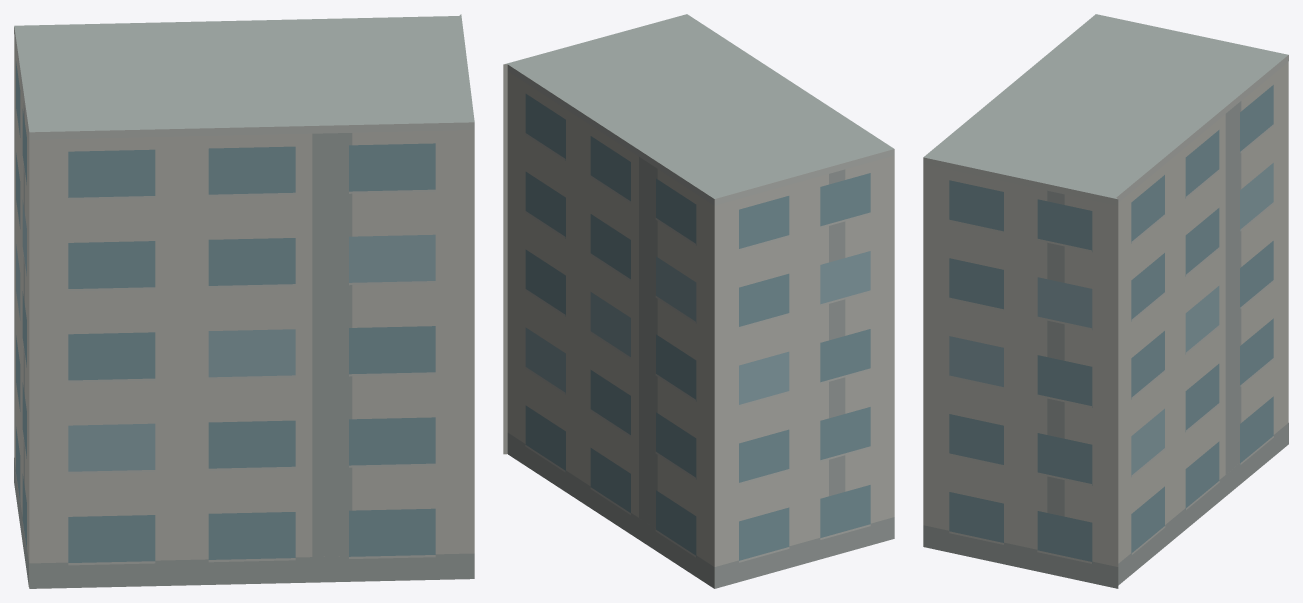
File: survey-upis-32726271.glb
3 views of the same model, side by side, from view 1: azimuth 30°, elevation 25°; view 2: azimuth 150°, elevation 25°; view 3: azimuth 270°, elevation 25° (orthographic). The views are drawn at different scales.
Parts seen in each view (by area): view 1: survey-upis-32726271.tmp; view 2: survey-upis-32726271.tmp; view 3: survey-upis-32726271.tmp.
Boxes of the visible parts, left/top/right/bottom form: survey-upis-32726271.tmp: left=14, top=14, right=474, bottom=588; survey-upis-32726271.tmp: left=503, top=14, right=894, bottom=588; survey-upis-32726271.tmp: left=923, top=14, right=1288, bottom=588.
Bounding box in the file's own units: 14.6 × 14.3 × 12.17.
